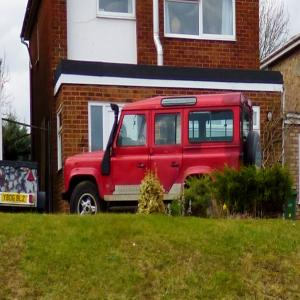Vehicle-registration-plate: (2, 193, 29, 204)
